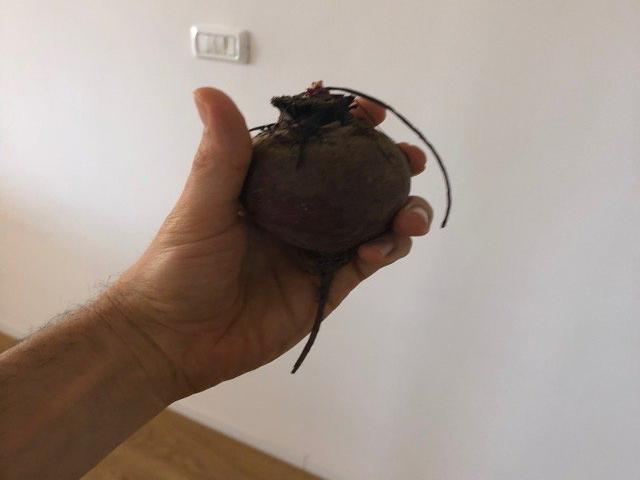beet: (246, 82, 453, 373)
